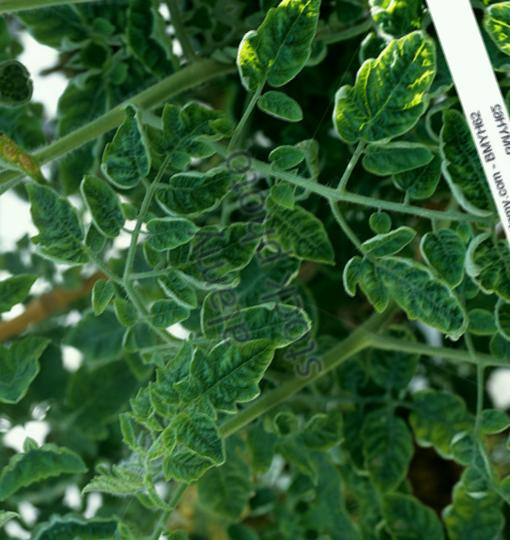Tomato leaf yellow virus: (300, 0, 474, 160), (327, 200, 480, 366), (147, 311, 306, 432), (203, 0, 364, 106), (156, 200, 295, 309), (209, 278, 330, 368), (79, 80, 168, 199), (147, 143, 260, 231), (449, 203, 510, 359), (250, 186, 340, 288), (351, 109, 446, 199), (166, 392, 241, 475), (131, 189, 207, 264), (69, 155, 131, 238)
